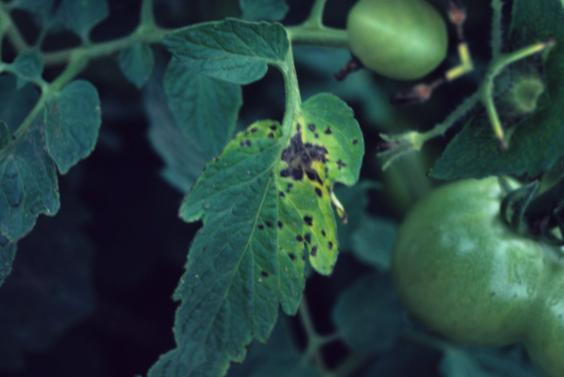Tomato Early blight leaf: (143, 60, 393, 377)
